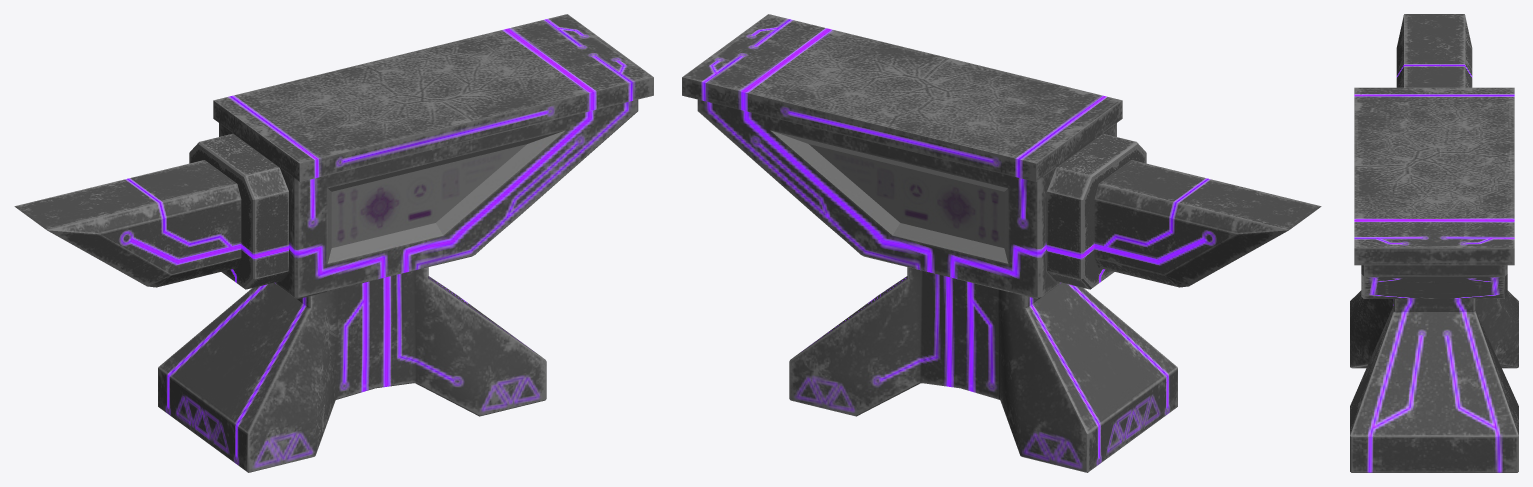
Rendered from cyber_anvil.glb.
The picture shows the model from 3 angles, left to right: view 1: azimuth 30°, elevation 25°; view 2: azimuth 150°, elevation 25°; view 3: azimuth 270°, elevation 25°; orthographic projection. The views are drawn at different scales.
Parts seen in each view (by area): view 1: pCube1, pCube2, pCube3, pCube5, pCube4; view 2: pCube1, pCube2, pCube3, pCube5, pCube4; view 3: pCube1, pCube2, pCube5, pCube3.
Part boxes in pixels (x1,y1,x2,y2): pCube1: [158, 267, 546, 472]; pCube2: [213, 14, 653, 181]; pCube3: [219, 99, 638, 299]; pCube5: [14, 160, 241, 287]; pCube4: [189, 133, 288, 289]; pCube1: [789, 267, 1177, 472]; pCube2: [682, 14, 1122, 181]; pCube3: [697, 99, 1116, 299]; pCube5: [1094, 160, 1321, 287]; pCube4: [1047, 133, 1146, 289]; pCube1: [1350, 290, 1518, 472]; pCube2: [1354, 87, 1514, 265]; pCube5: [1396, 14, 1472, 87]; pCube3: [1361, 265, 1507, 298].
Bounding box in the file's own units: 0.1641 × 0.0798 × 0.0445.
1 material, 1 textured.
